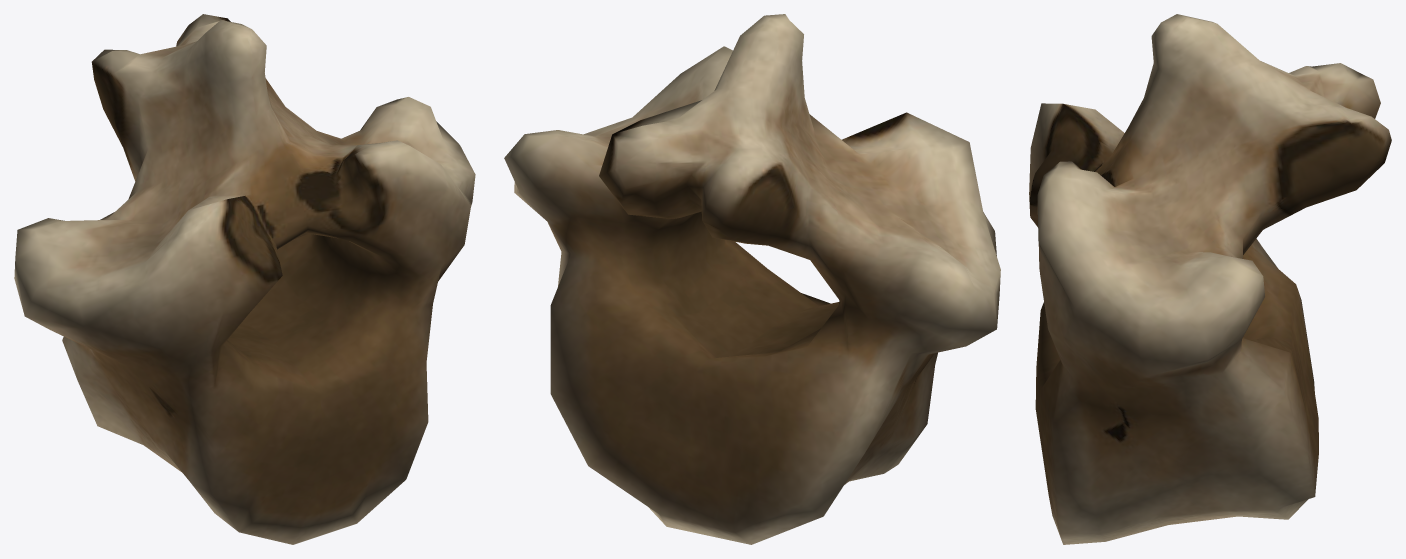
File: Anticlinical_Vertebra.glb
3 renders of one model, left to right at view 1: azimuth 30°, elevation 25°; view 2: azimuth 150°, elevation 25°; view 3: azimuth 270°, elevation 25°, orthographic. The views are drawn at different scales.
Parts seen in each view (by area): view 1: Anticlinical_Vertebra1:Group62554; view 2: Anticlinical_Vertebra1:Group62554; view 3: Anticlinical_Vertebra1:Group62554.
Boxes of the visible parts, x1,y1,x2,y2 form: Anticlinical_Vertebra1:Group62554: [14, 14, 475, 544]; Anticlinical_Vertebra1:Group62554: [504, 14, 1000, 544]; Anticlinical_Vertebra1:Group62554: [1029, 14, 1391, 544].
Bounding box in the file's own units: 28.41 × 29.11 × 19.16.
1 material, 1 textured.
